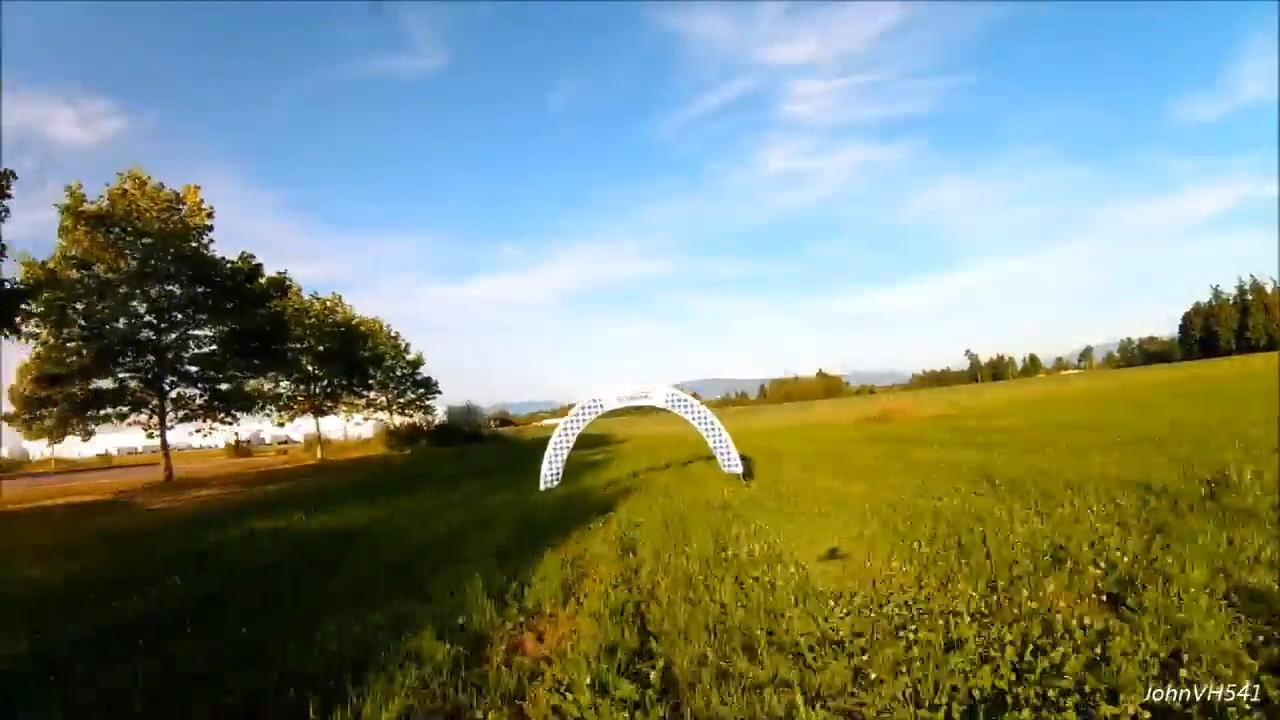gate: (535, 381, 750, 484)
